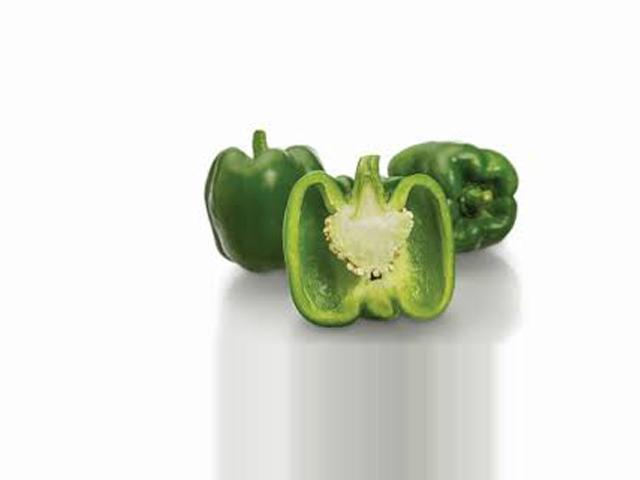bell_pepper: (374, 128, 529, 268)
